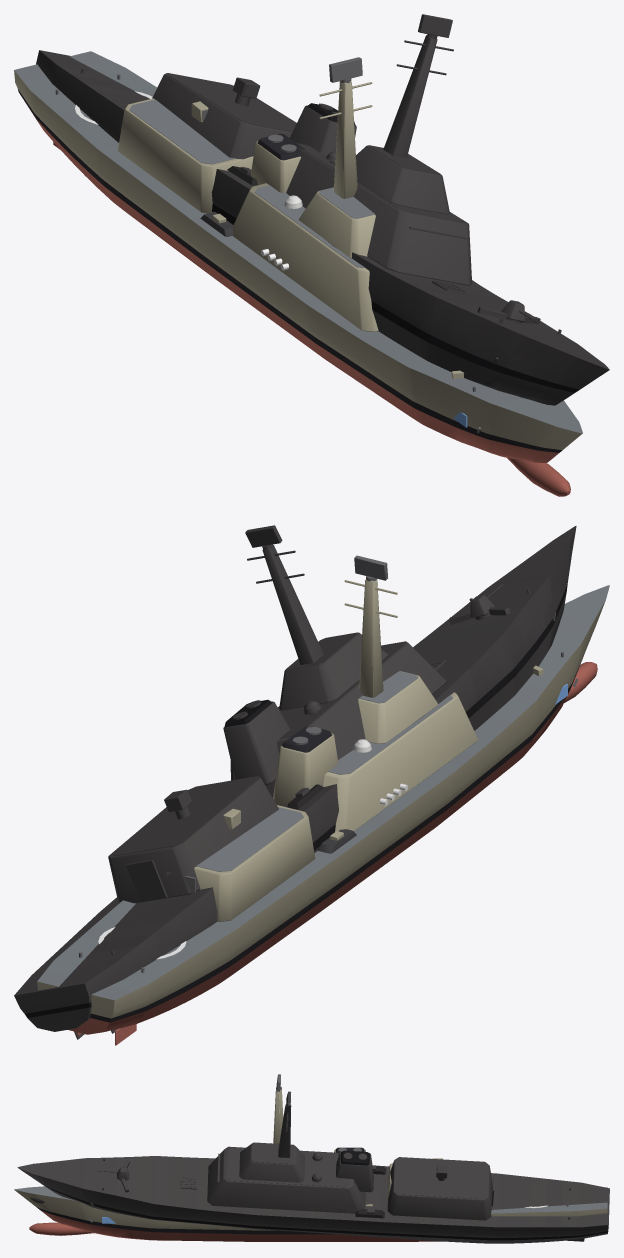
Rendered from corvette__al_jubail_class.glb.
The picture shows the model from 3 angles, top to bottom: view 1: azimuth 30°, elevation 25°; view 2: azimuth 150°, elevation 25°; view 3: azimuth 270°, elevation 25°; orthographic projection. The views are drawn at different scales.
Parts seen in each view (by area): view 1: Hull_Mesh, Wreck, Radar_Mesh; view 2: Hull_Mesh, Wreck; view 3: Wreck, Hull_Mesh.
Boxes of the visible parts, left/top/right/bottom form: Hull_Mesh: left=14, top=51, right=582, bottom=496; Wreck: left=36, top=14, right=609, bottom=405; Radar_Mesh: left=329, top=57, right=362, bottom=83; Hull_Mesh: left=37, top=579, right=609, bottom=1045; Wreck: left=14, top=525, right=576, bottom=1039; Wreck: left=17, top=1091, right=609, bottom=1243; Hull_Mesh: left=14, top=1089, right=607, bottom=1241.
Size of what is drawn, in the model's own units: 20.64 by 34.01 by 109.
